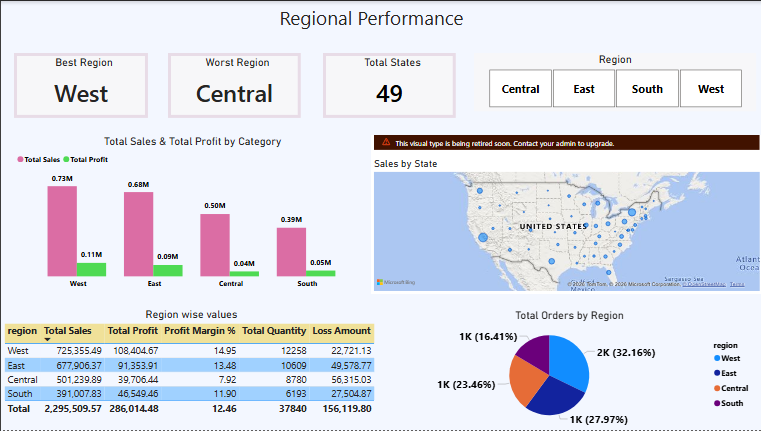

The page's visual inventory and layout, read from the dashboard file:
{"tool":"powerbi","page":{"name":"Regional Performance","canvas":[1280,720],"ordinal":1},"visuals":[{"type":"textbox","box":[371.2,0,502.3,62.2],"z":0},{"type":"cardVisual","title":"Best Region","fields":{"Data":["fact_sales.Best Region"]},"box":[21.8,87.3,225.1,109.2],"z":1000},{"type":"cardVisual","title":"Worst Region","fields":{"Data":["fact_sales.Worst Region"]},"box":[280.5,87.3,223.4,109.2],"z":2000},{"type":"cardVisual","title":"Total States","fields":{"Data":["fact_sales.States Covered"]},"box":[540.9,87.3,223.4,109.2],"z":3000},{"type":"clusteredColumnChart","title":"Total Sales & Total Profit by Category","fields":{"Category":["dim_location.region"],"Y":["fact_sales.Total Sales","fact_sales.Total Profit"]},"box":[21.9,225.4,600.5,267.4],"z":4000},{"type":"map","title":"Sales by State","fields":{"Category":["dim_location.state"],"Size":["fact_sales.Total Sales"]},"box":[622.3,225.4,657.7,267.4],"z":5000},{"type":"tableEx","title":"Region wise values","fields":{"Values":["dim_location.region","fact_sales.Total Sales","fact_sales.Total Profit","fact_sales.Profit Margin %","fact_sales.Total Quantity","fact_sales.Loss Amount"]},"box":[0,515.7,640,204.9],"z":6000},{"type":"pieChart","title":"Total Orders by Region","fields":{"Category":["dim_location.region"],"Y":["fact_sales.Total Orders"]},"box":[640,517.4,629.9,201.6],"z":7000},{"type":"slicer","title":"Region","fields":{"Values":["dim_location.region"]},"box":[793.9,87.5,474.3,97.6],"z":8000}]}

Visuals, with their boxes in screenshot pixels (x1, y1, x2, y2), scaled from the page's 1280x720 canvas onto the 761x431 screenshot:
textbox: region(221, 0, 519, 37)
"Best Region" cardVisual: region(13, 52, 147, 118)
"Worst Region" cardVisual: region(167, 52, 300, 118)
"Total States" cardVisual: region(322, 52, 454, 118)
"Total Sales & Total Profit by Category" clusteredColumnChart: region(13, 135, 370, 295)
"Sales by State" map: region(370, 135, 760, 295)
"Region wise values" tableEx: region(0, 309, 380, 430)
"Total Orders by Region" pieChart: region(380, 310, 755, 430)
"Region" slicer: region(472, 52, 754, 111)
